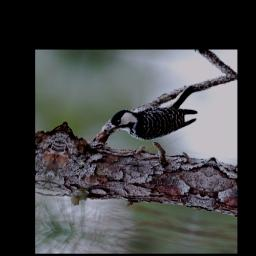Woodpecker: (103, 72, 206, 151)
